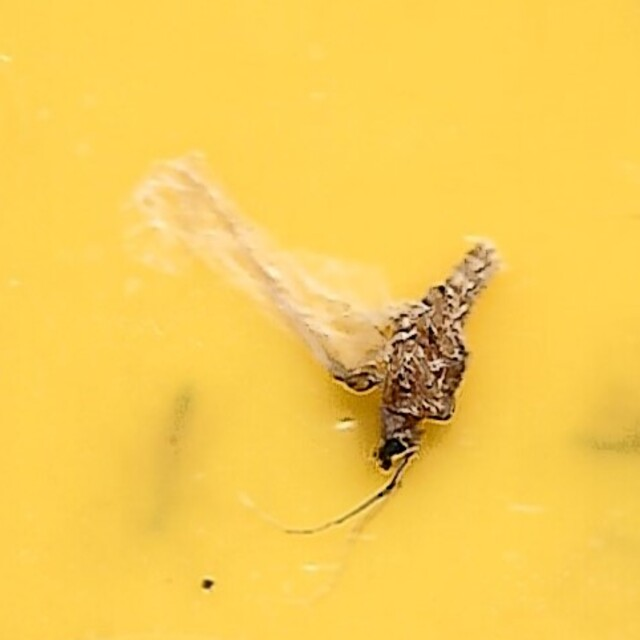Ephemeroptera: (133, 150, 507, 490)
